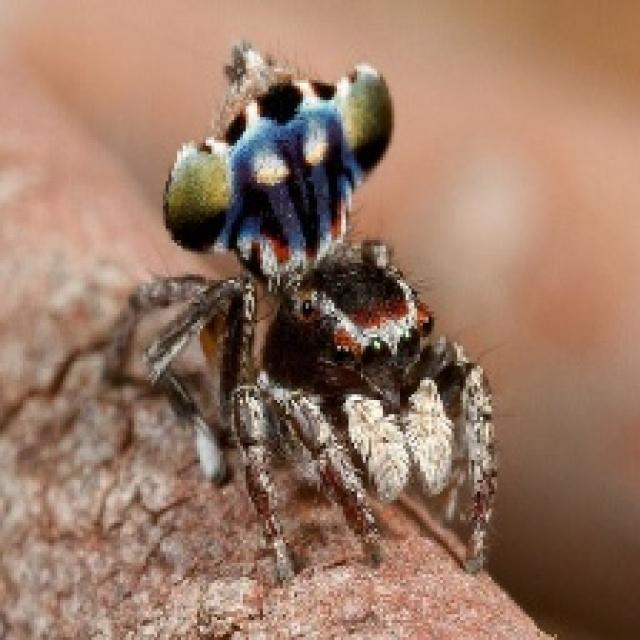Non venomous spider: (172, 63, 520, 497)
